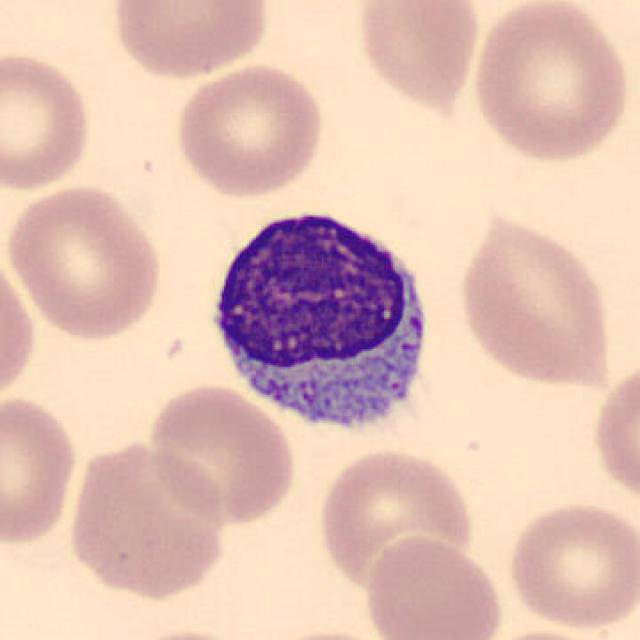Lymphocyte: (198, 196, 444, 450)
RBC: (453, 208, 617, 390), (466, 0, 634, 166), (64, 436, 231, 601), (2, 180, 167, 342), (313, 444, 478, 594), (144, 379, 299, 527), (171, 60, 327, 199), (503, 497, 638, 631), (362, 532, 508, 640), (352, 0, 484, 113), (0, 46, 96, 194), (106, 0, 274, 81), (0, 390, 80, 548), (588, 352, 640, 514), (0, 249, 39, 407), (115, 626, 268, 640), (256, 626, 400, 640), (476, 626, 617, 640)
